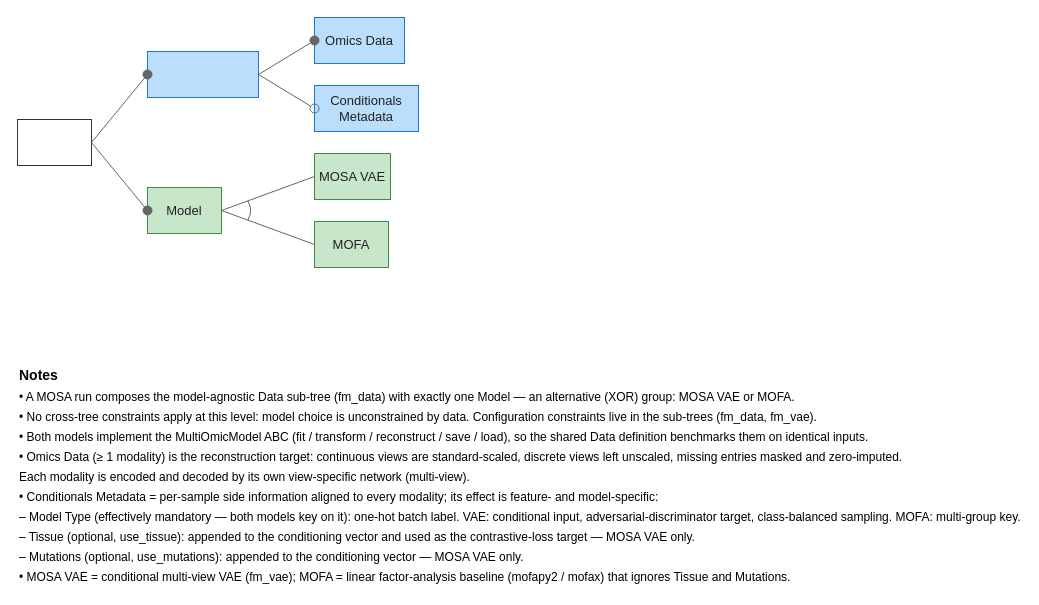
Some shapes in this 1039 by 605 pixel diagram are drawn without their labels. Each missing label, with the centre of its shape:
Data: pixel 202 74
MOSA: pixel 54 142
